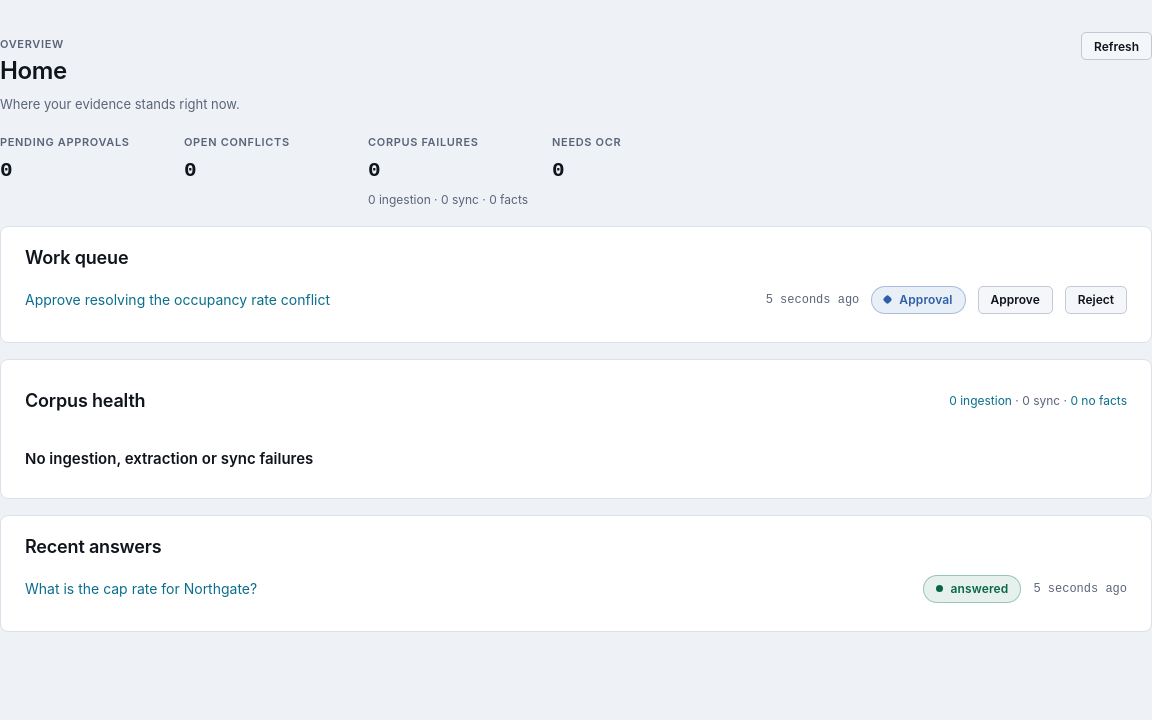
Test case: HomePage › completes an approval decision inline from the work queue, without navigating away
Expected: the list item "Approve resolving the occupancy rate conflict" is shown, x1=25 y1=289 x2=330 y2=311
Click the button with aria-label "Approve, Approve resolving the occupancy rate conflict" at coordinates (1015, 300), box x1=978 y1=286 x2=1053 y2=314
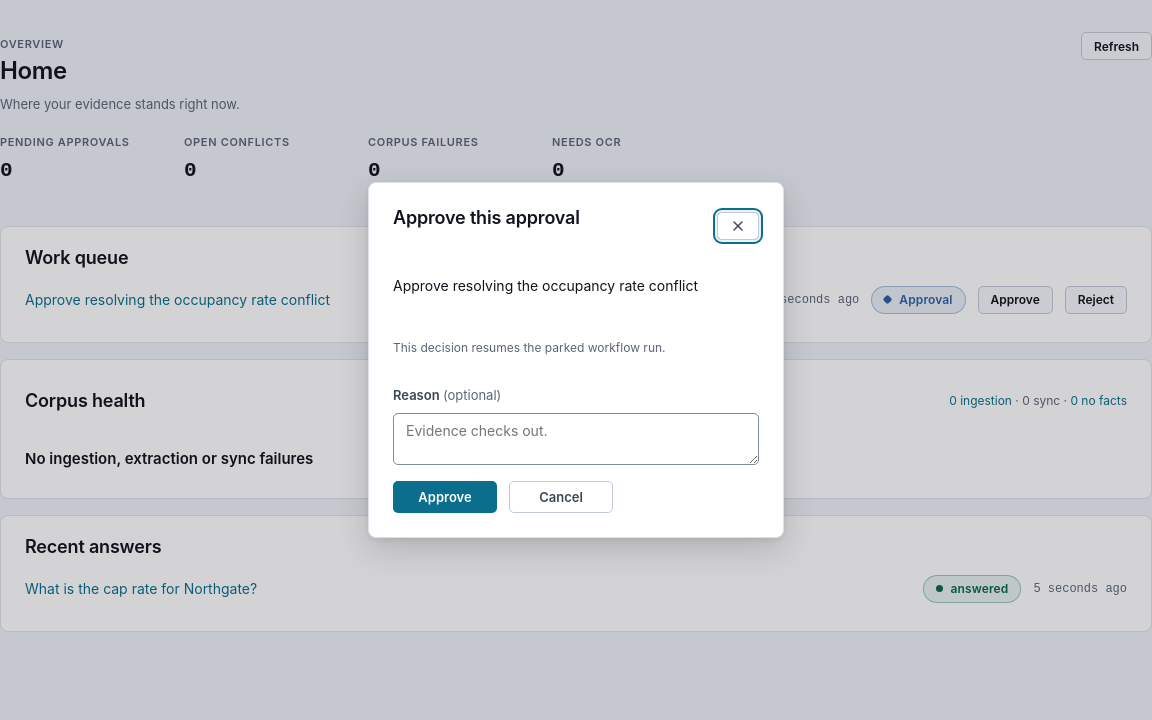
Click the button "Approve" at coordinates (445, 498), box x1=393 y1=482 x2=497 y2=514
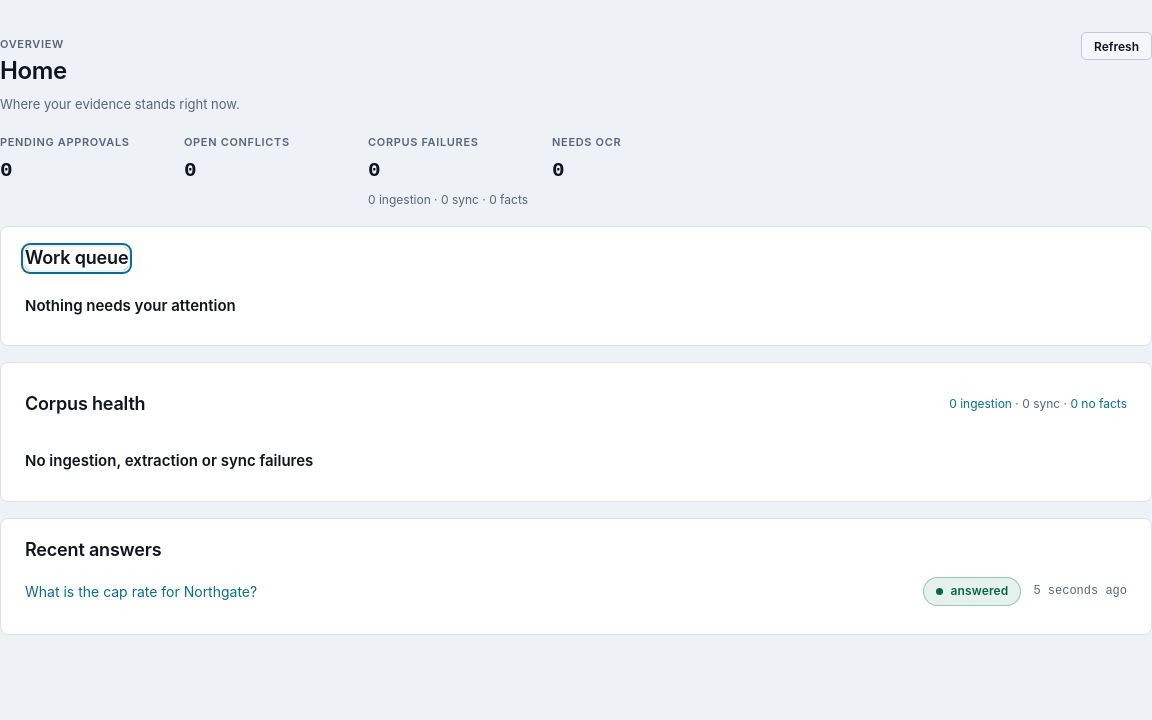
Expected: the heading "Home" is shown, x1=0 y1=56 x2=67 y2=85
Now the dialog is gone
Now the link "Approve resolving the occupancy rate conflict" is gone
